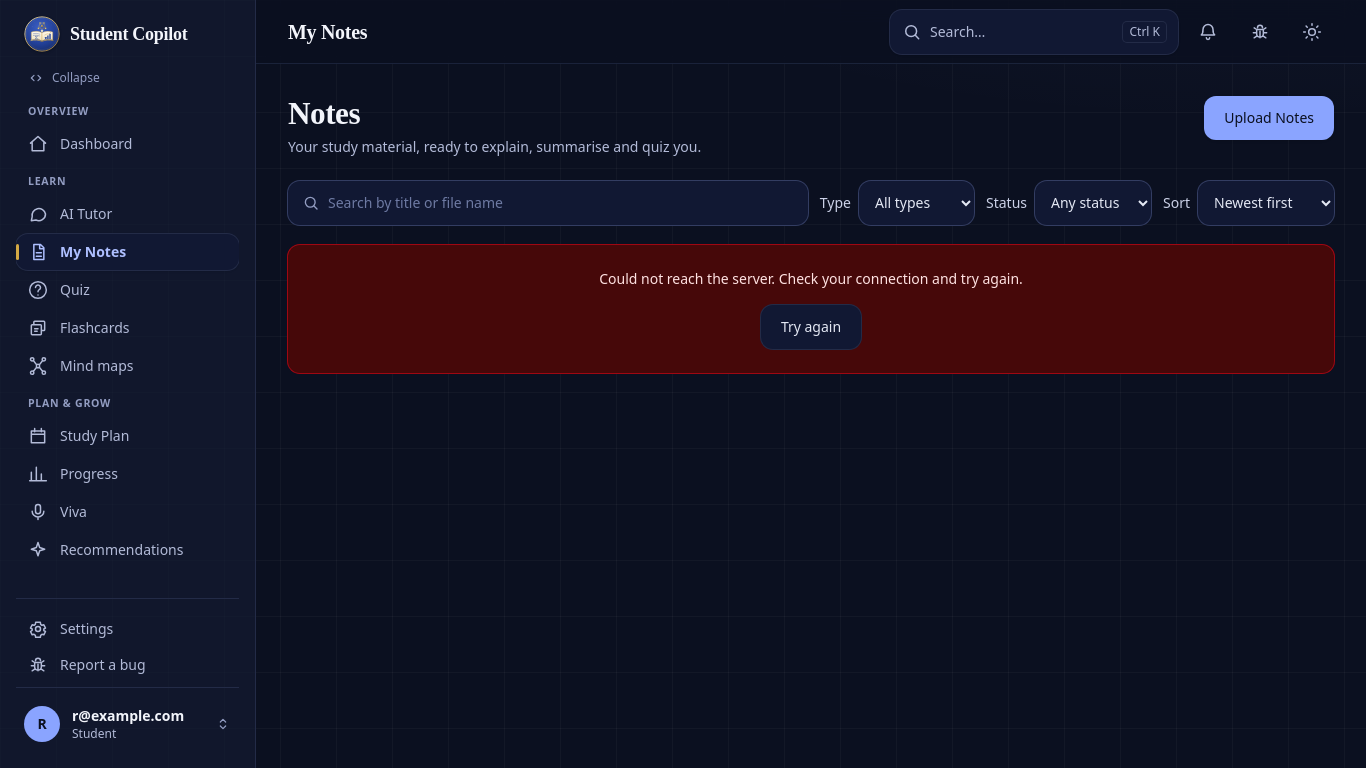
Test case: library states › shows an error with Try again, and recovers
Expected: the text "Could not reach the server" is shown, left=599, top=269, right=1023, bottom=288
What coordinates should you click on to do the following:
click the button "Try again"
I would click on:
 (811, 327)
Its box is left=761, top=305, right=861, bottom=349.
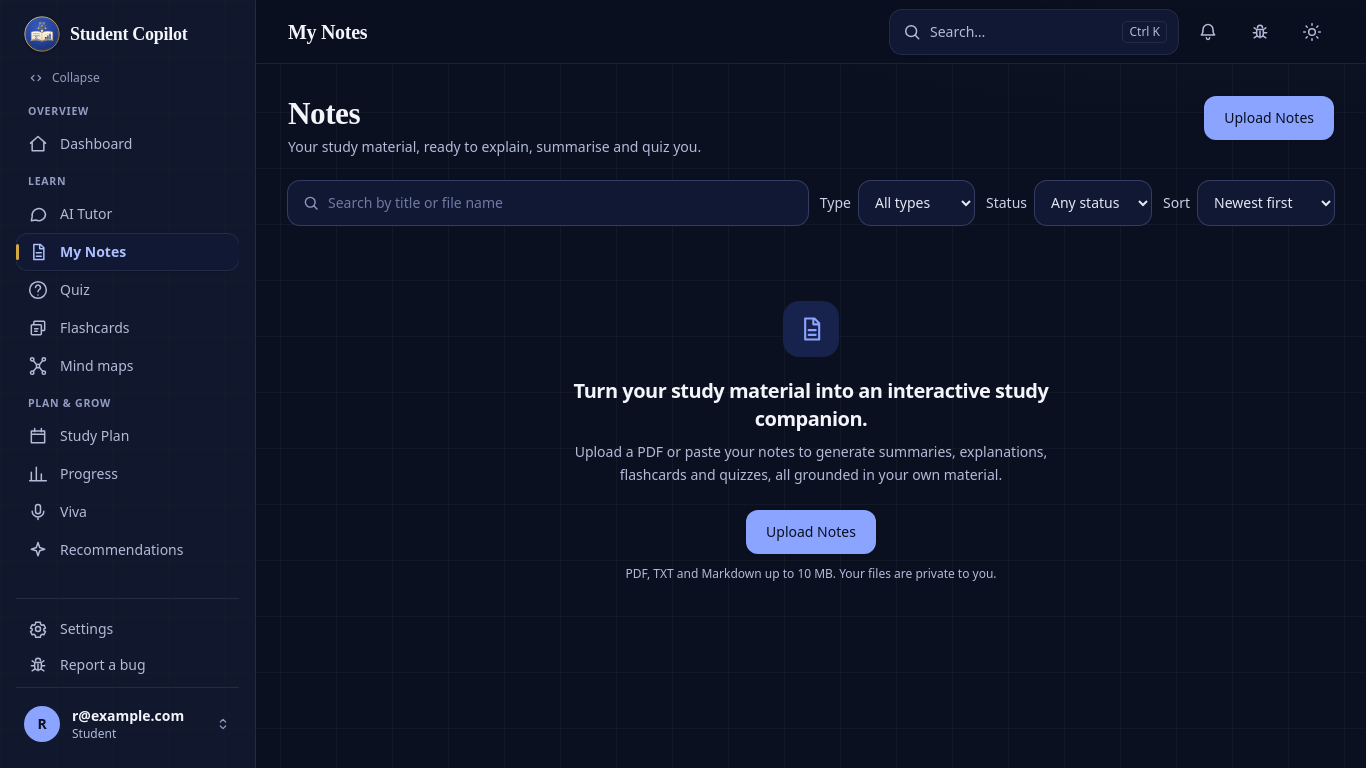
Expected: the heading "Turn your study material into an interactive study companion." is shown, left=571, top=377, right=1051, bottom=433
